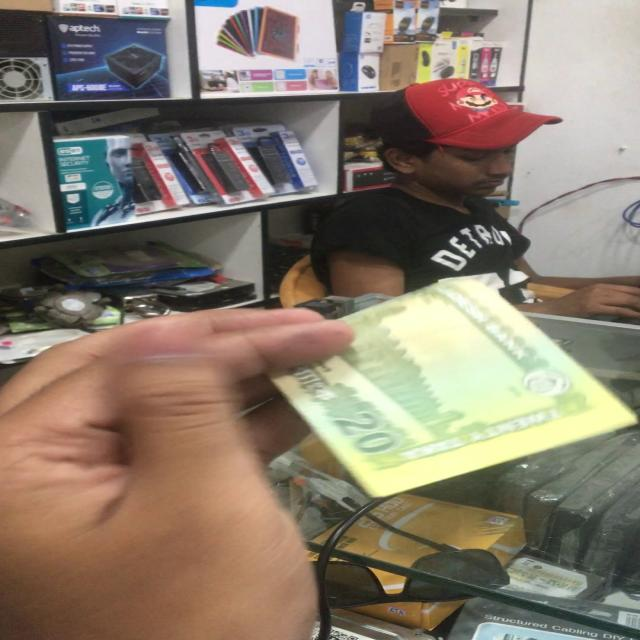Taka: (283, 282, 619, 474)
